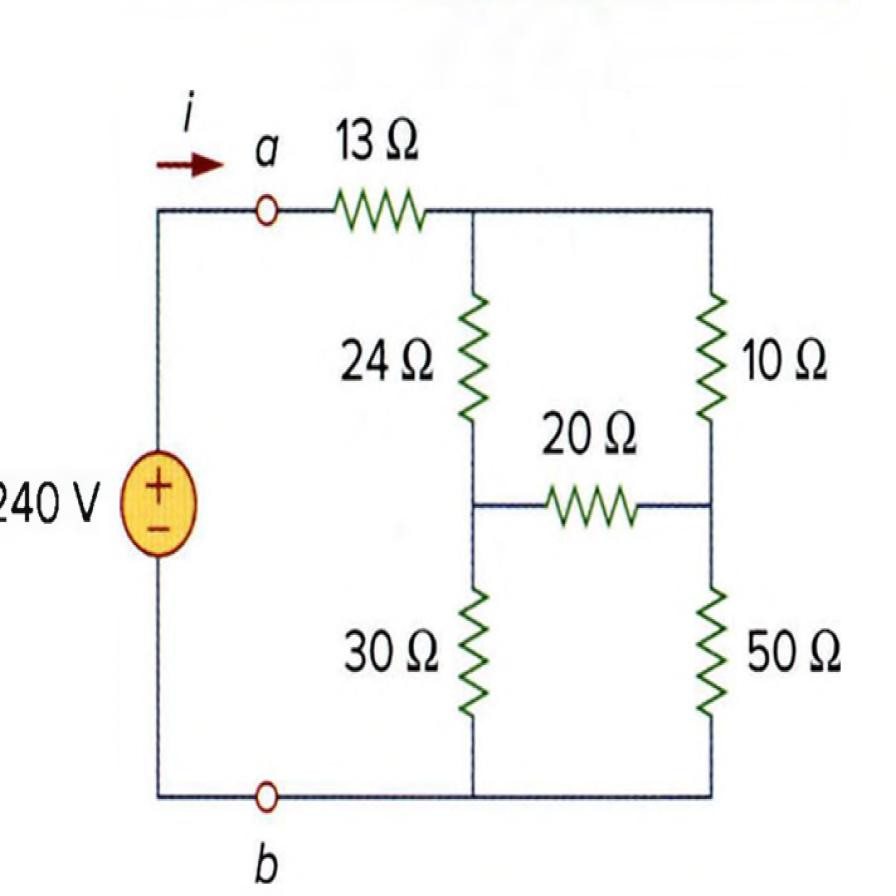R1: (315, 163, 440, 265), (530, 472, 647, 547)
R2: (684, 280, 740, 447), (683, 572, 734, 730), (450, 279, 498, 437), (452, 575, 499, 727)
V1: (116, 436, 205, 585)
